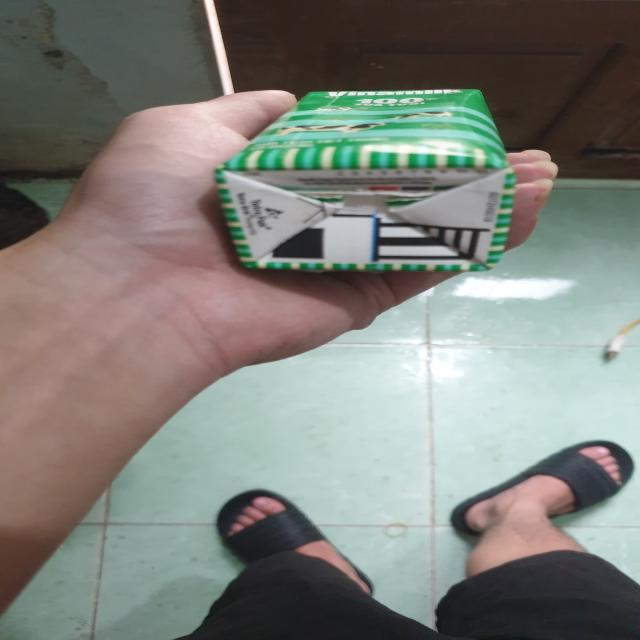Vina: (216, 81, 506, 278)
